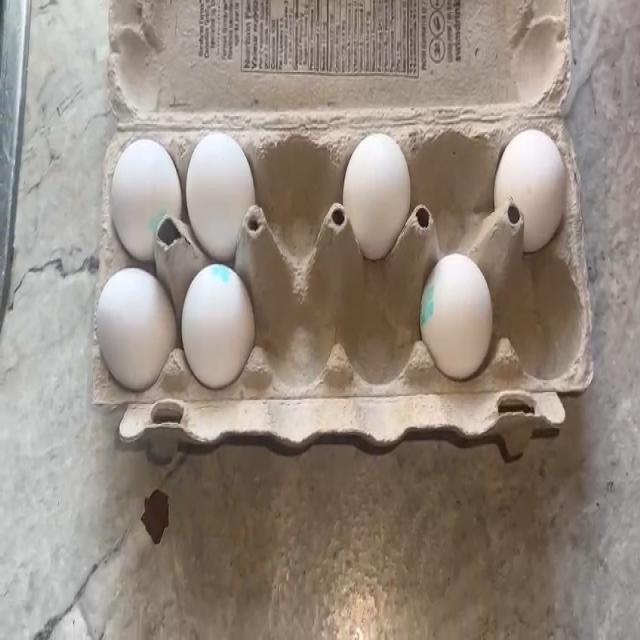Egg: (104, 271, 174, 404), (186, 261, 250, 383), (494, 129, 571, 229), (184, 130, 250, 242), (419, 270, 502, 358), (112, 136, 168, 254), (344, 135, 410, 235)
